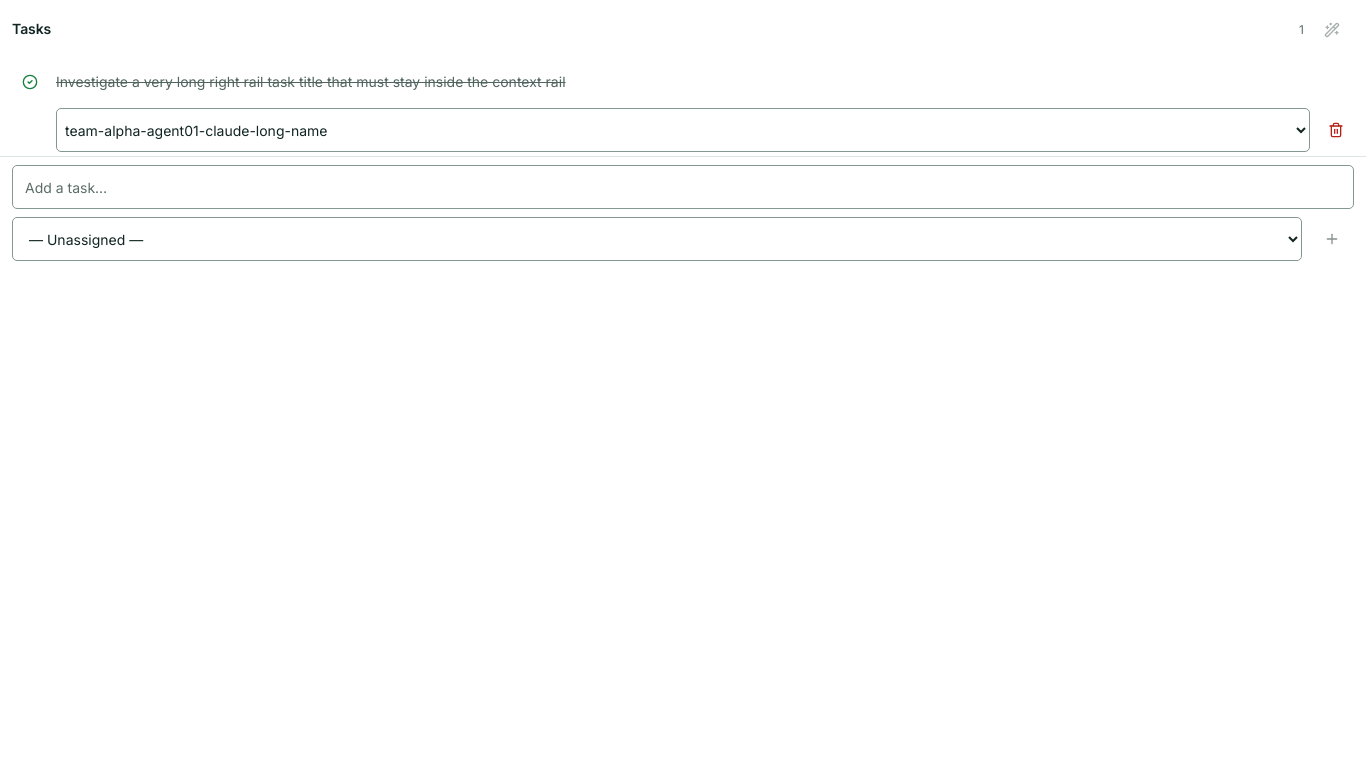
Test: TasksSection detail dialog › renders supplied instructions, results, source versions and schedule evidence
This screenshot has width=1366, height=768.
Expected: the text "Use only verified career facts." is not shown
Click the button with aria-label "Open Investigate a very long right rail task title that must". click: (311, 82)
box: x1=56 y1=60 x2=1358 y2=104
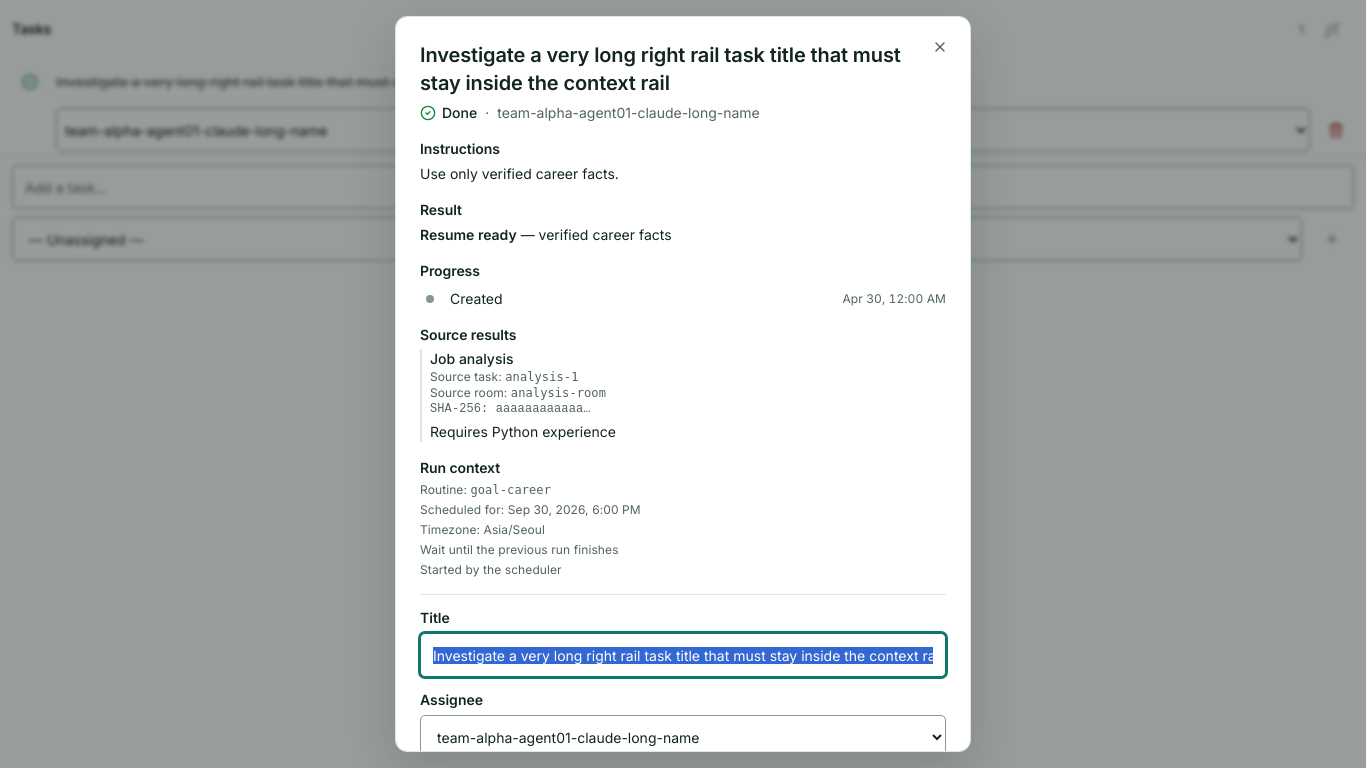
Expected: the text "Use only verified career facts." is shown, x1=420 y1=165 x2=619 y2=182
Expected: the text "Job analysis" is shown, x1=430 y1=350 x2=514 y2=367
Expected: the text "Requires Python experience" is shown, x1=430 y1=423 x2=616 y2=440
